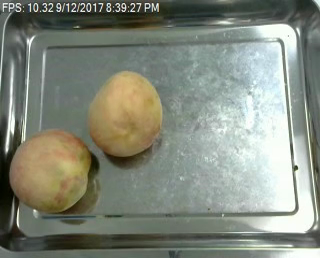Peach: (8, 128, 92, 214), (87, 69, 163, 157)
